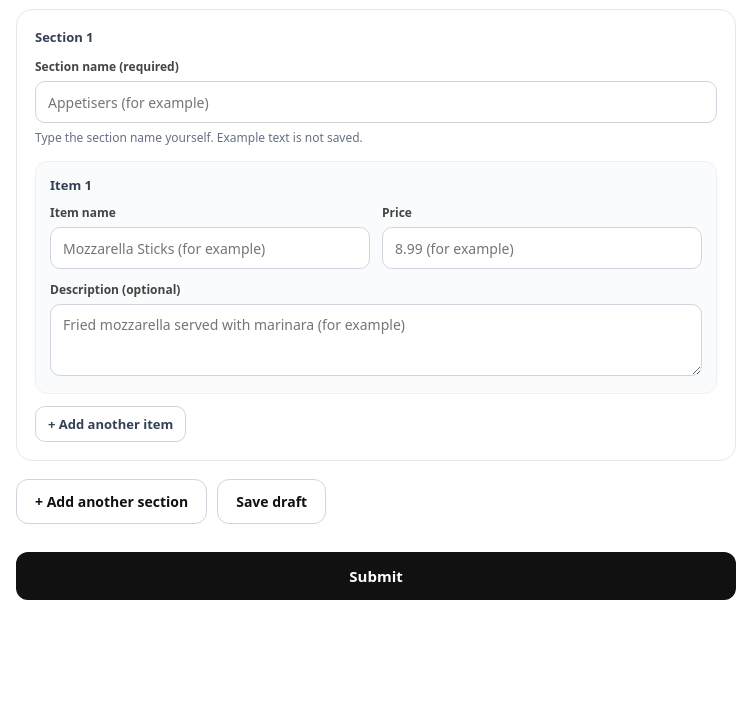
Test: ManualMenuEntryPage › shows remove only on the additional item after add item
(page scrolled)
Click the button "+ Add another item" at coordinates (111, 424), box [35,406,186,442]
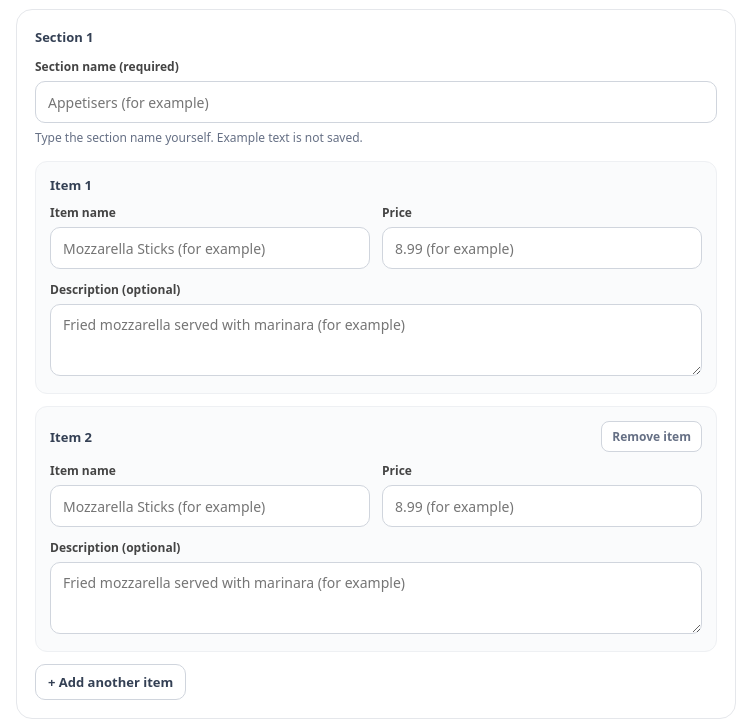
Expected: the number of buttons "Remove item" is 1, [601,421,702,452]
Expected: the number of elements with test id "manual-menu-item-card" is 2, [35,161,717,394]; [35,406,717,652]
